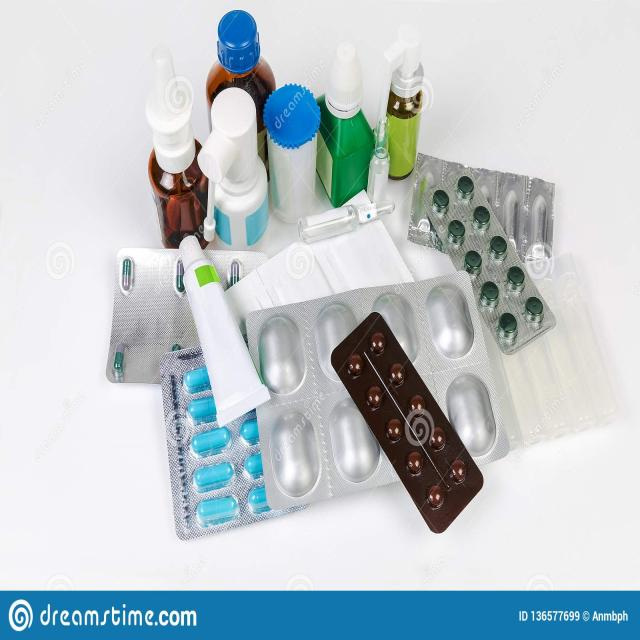B3: (330, 309, 495, 540), (417, 178, 580, 356), (137, 41, 210, 245)
